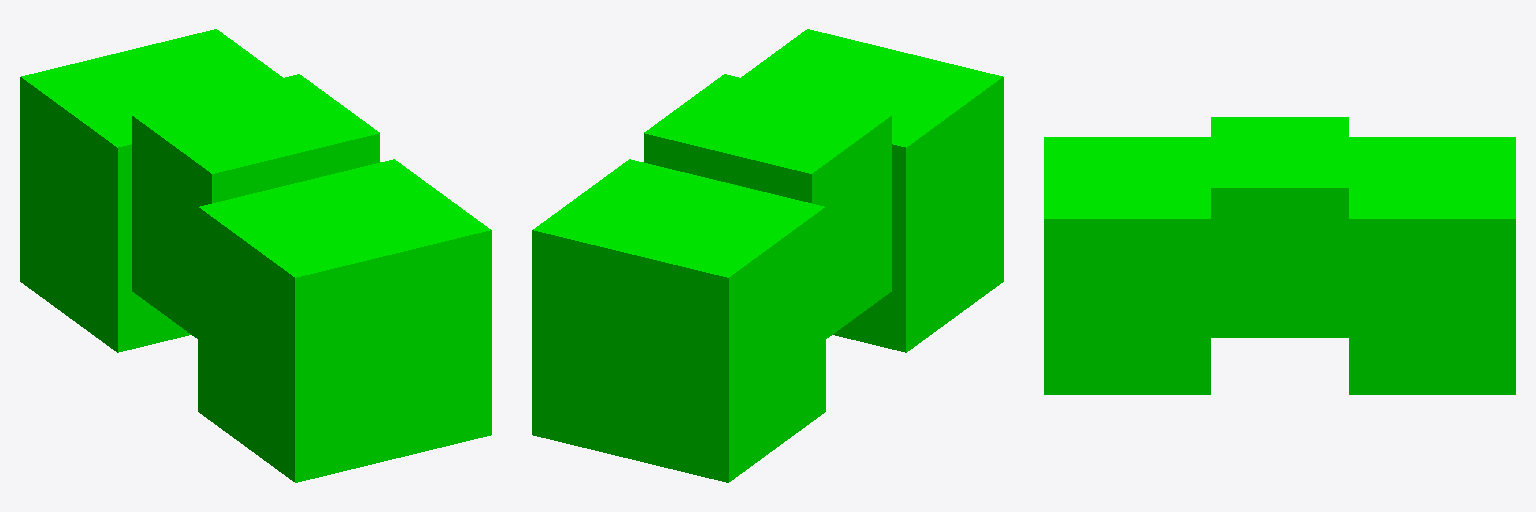
URDF robot description (robot):
<robot name = "robot">
    <link name="root">
        <inertial>
            <origin xyz="0.0 0.0 1.5" rpy="0 0 0"/>
            <mass value="1" />
            <inertia ixx="100" ixy="0" ixz="0" iyy="100" iyz="0" izz="100" />
        </inertial>
        <visual>
            <origin xyz="0.0 0.0 1.5" rpy="0 0 0"/>
            <geometry>
                <box size="0 0 0.0001" />
            </geometry>
            <material name="Green">
                <color rgba="0 1.0 0.0 1.0"/>
            </material>
        </visual>
        <collision>
            <origin xyz="0.0 0.0 1.5" rpy="0 0 0"/>
            <geometry>
                <box size="0 0 0.0001" />
            </geometry>
        </collision>
    </link>
    <joint name="root_000" type="revolute">
       <parent link="root"/>
       <child  link="000"/>
       <origin rpy="0 0 0" xyz="0.0 0.0 1.5" />
     <axis xyz="1 0 0"/>
       <limit effort="0.0" lower="-3.14159" upper="3.14159" velocity="0.0"/>
    </joint>
    <link name="000">
        <inertial>
            <origin xyz="0.0 0.0 -0.15" rpy="0 0 0"/>
            <mass value="1" />
            <inertia ixx="100" ixy="0" ixz="0" iyy="100" iyz="0" izz="100" />
        </inertial>
        <visual>
            <origin xyz="0.0 0.0 -0.15" rpy="0 0 0"/>
            <geometry>
                <box size="0.6 0.5 0.3" />
            </geometry>
            <material name="Green">
                <color rgba="0 1.0 0.0 1.0"/>
            </material>
        </visual>
        <collision>
            <origin xyz="0.0 0.0 -0.15" rpy="0 0 0"/>
            <geometry>
                <box size="0.6 0.5 0.3" />
            </geometry>
        </collision>
    </link>
    <joint name="000_010" type="revolute">
       <parent link="000"/>
       <child  link="010"/>
       <origin rpy="0 0 0" xyz="0.0 0.0 -0.3" />
     <axis xyz="0 0 1"/>
       <limit effort="0.0" lower="-3.14159" upper="3.14159" velocity="0.0"/>
    </joint>
    <link name="010">
        <inertial>
            <origin xyz="0.0 0.0 -0.15" rpy="0 0 0"/>
            <mass value="1" />
            <inertia ixx="100" ixy="0" ixz="0" iyy="100" iyz="0" izz="100" />
        </inertial>
        <visual>
            <origin xyz="0.0 0.0 -0.15" rpy="0 0 0"/>
            <geometry>
                <box size="0.6 0.5 0.3" />
            </geometry>
            <material name="Green">
                <color rgba="0 1.0 0.0 1.0"/>
            </material>
        </visual>
        <collision>
            <origin xyz="0.0 0.0 -0.15" rpy="0 0 0"/>
            <geometry>
                <box size="0.6 0.5 0.3" />
            </geometry>
        </collision>
    </link>
    <joint name="010_010-100" type="revolute">
       <parent link="010"/>
       <child  link="010-100"/>
       <origin rpy="0 0 0" xyz="0.0 0.25 -0.15" />
     <axis xyz="0 1 0"/>
       <limit effort="0.0" lower="-3.14159" upper="3.14159" velocity="0.0"/>
    </joint>
    <link name="010-100">
        <inertial>
            <origin xyz="0.0 0.3 -0.0" rpy="0 0 0"/>
            <mass value="1" />
            <inertia ixx="100" ixy="0" ixz="0" iyy="100" iyz="0" izz="100" />
        </inertial>
        <visual>
            <origin xyz="0.0 0.3 -0.0" rpy="0 0 0"/>
            <geometry>
                <box size="0.7 0.6 0.7" />
            </geometry>
            <material name="Green">
                <color rgba="0 1.0 0.0 1.0"/>
            </material>
        </visual>
        <collision>
            <origin xyz="0.0 0.3 -0.0" rpy="0 0 0"/>
            <geometry>
                <box size="0.7 0.6 0.7" />
            </geometry>
        </collision>
    </link>
    <joint name="010_010-101" type="revolute">
       <parent link="010"/>
       <child  link="010-101"/>
       <origin rpy="0 0 0" xyz="0.0 -0.25 -0.15" />
     <axis xyz="0 1 0"/>
       <limit effort="0.0" lower="-3.14159" upper="3.14159" velocity="0.0"/>
    </joint>
    <link name="010-101">
        <inertial>
            <origin xyz="0.0 -0.3 -0.0" rpy="0 0 0"/>
            <mass value="1" />
            <inertia ixx="100" ixy="0" ixz="0" iyy="100" iyz="0" izz="100" />
        </inertial>
        <visual>
            <origin xyz="0.0 -0.3 -0.0" rpy="0 0 0"/>
            <geometry>
                <box size="0.7 0.6 0.7" />
            </geometry>
            <material name="Green">
                <color rgba="0 1.0 0.0 1.0"/>
            </material>
        </visual>
        <collision>
            <origin xyz="0.0 -0.3 -0.0" rpy="0 0 0"/>
            <geometry>
                <box size="0.7 0.6 0.7" />
            </geometry>
        </collision>
    </link>
</robot>

--- Facts derived from the render (not from the file) ---
The picture shows the robot from 3 angles, left to right: view 1: azimuth 30°, elevation 25°; view 2: azimuth 150°, elevation 25°; view 3: azimuth 270°, elevation 25°; orthographic projection.
Robot: robot — 5 links, 4 joints (4 revolute); root link root; default pose: all joints at 0.
Visible links, largest first — view 1: 010-101, 010-100, 000, 010; view 2: 010-100, 010-101, 000, 010; view 3: 010-100, 010-101, 000, 010.
Boxes of the visible links, x1=… form: 010-101: x1=198, y1=159, x2=491, y2=482; 010-100: x1=20, y1=29, x2=282, y2=352; 000: x1=132, y1=74, x2=379, y2=250; 010: x1=132, y1=204, x2=197, y2=338; 010-100: x1=532, y1=159, x2=825, y2=482; 010-101: x1=741, y1=29, x2=1003, y2=352; 000: x1=644, y1=74, x2=891, y2=250; 010: x1=826, y1=204, x2=891, y2=338; 010-100: x1=1349, y1=137, x2=1515, y2=394; 010-101: x1=1044, y1=137, x2=1210, y2=394; 000: x1=1211, y1=117, x2=1348, y2=262; 010: x1=1211, y1=263, x2=1348, y2=337.
Size in the robot's own frame: 0.7 by 1.7 by 0.8 metres.
Geometry: primitives only (box / cylinder / sphere), no mesh files.